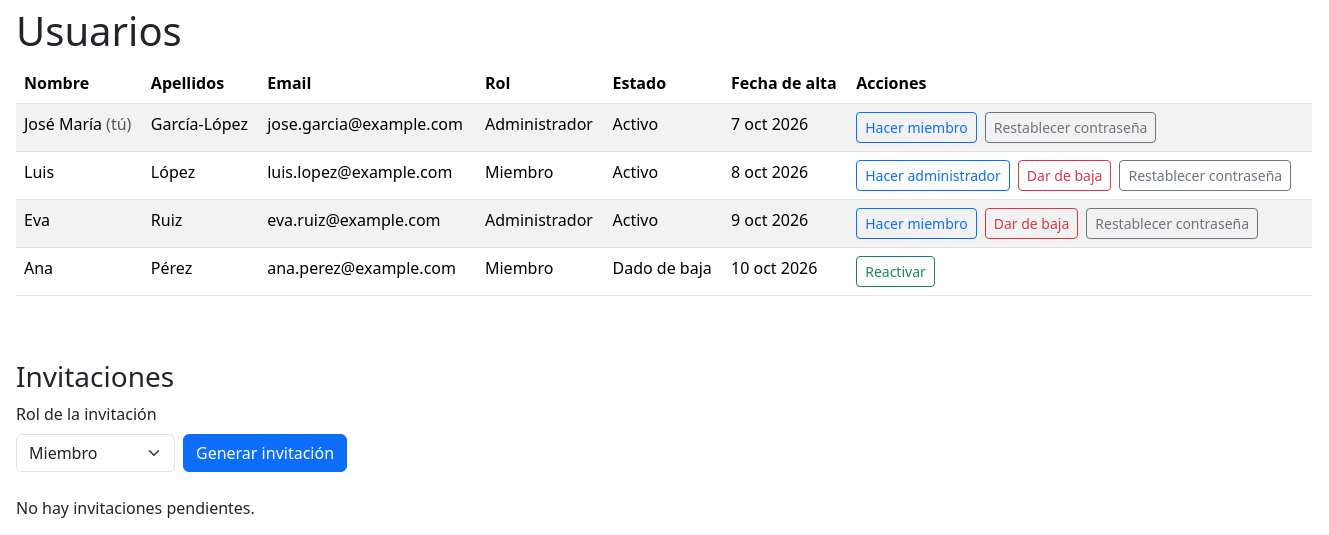
Test case: UsersPage actions › changing the role and reactivating › reactivates a suspended user and shows it as active
Click the button "Reactivar" at (896, 272), box [856,256,935,287]
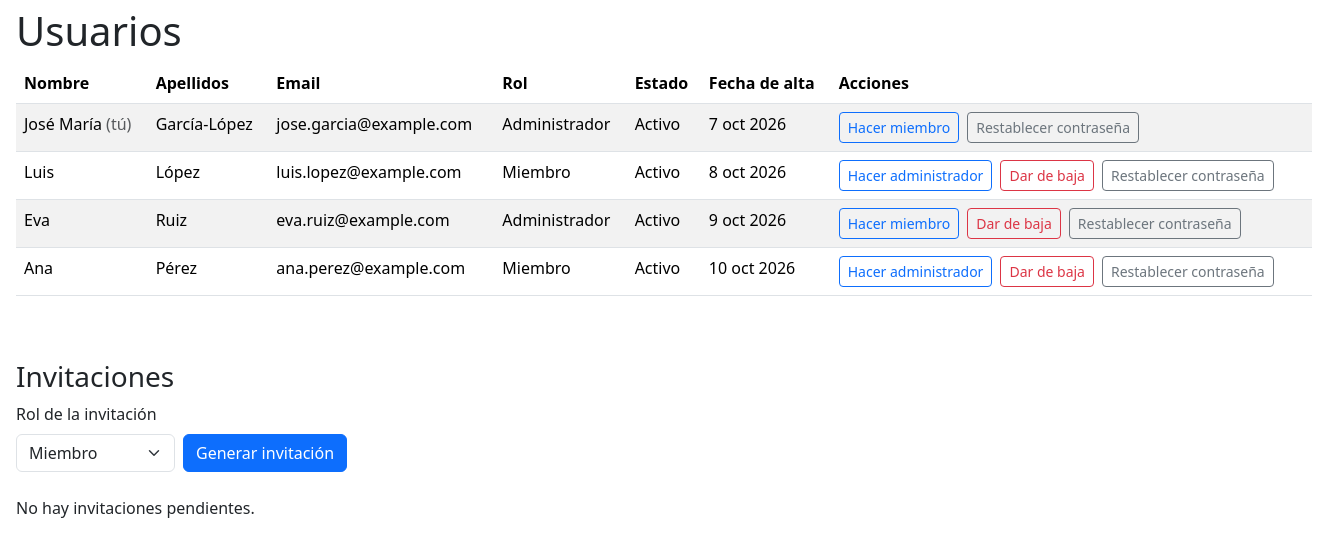
Expected: the text "ana.perez@example.com" shows "Activo", [635,257,680,279]
Expected: the button "Dar de baja" in the row of "Pérez" is shown, [1000,256,1094,287]
